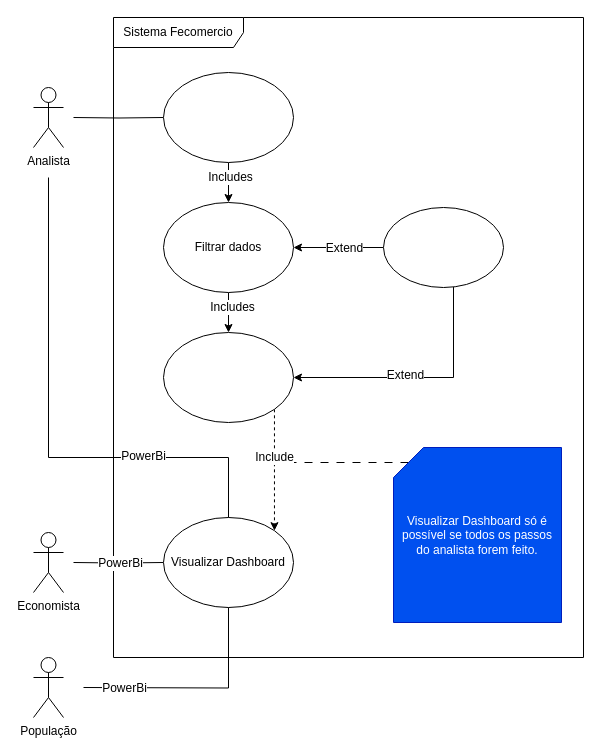
Image size: 601x756. Some labels were removed from this diagram. Each missing label, with the box of its shape:
Aplicação do ETL: (382, 206, 504, 288)
Criar Dashboard: (162, 332, 294, 422)
Resgatar dados da API: (162, 72, 294, 162)
